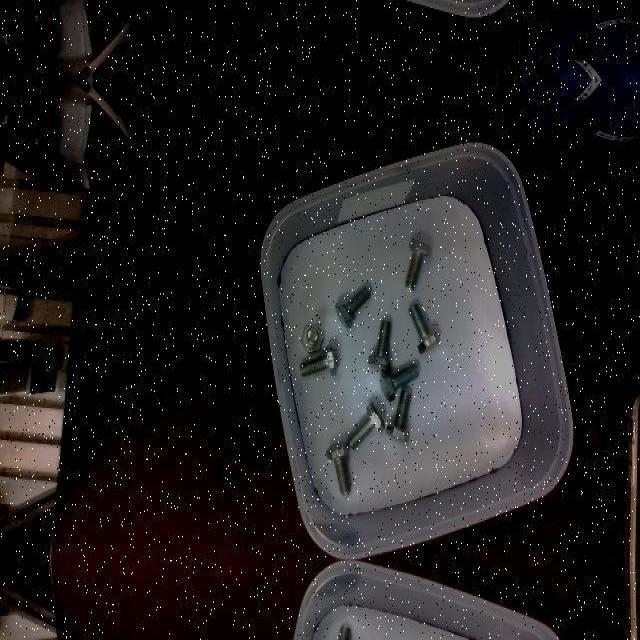screw: (346, 402, 385, 448), (379, 363, 419, 403), (408, 303, 440, 353), (334, 285, 370, 327), (385, 389, 411, 443), (325, 441, 351, 495), (404, 239, 432, 289), (300, 343, 337, 377), (367, 320, 391, 372), (300, 323, 324, 353), (325, 625, 351, 639)
